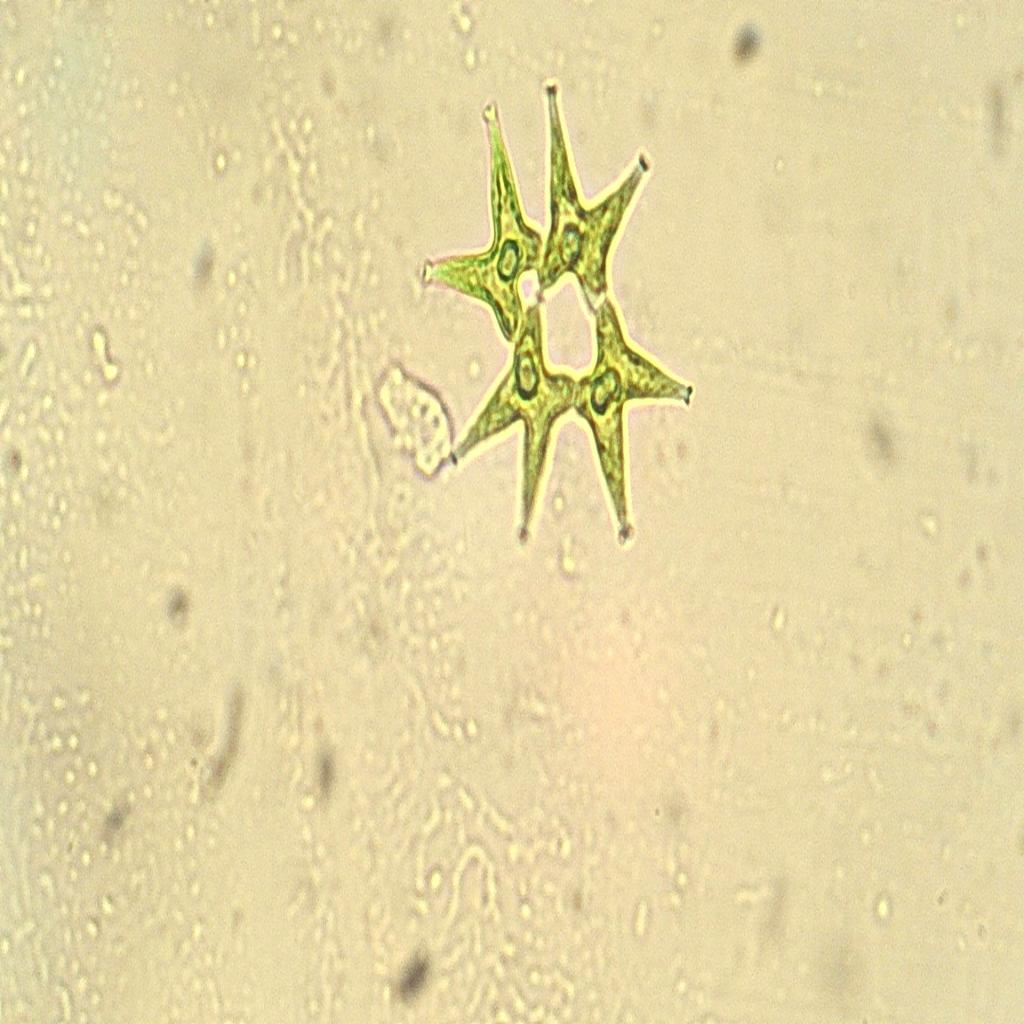Pediastrum_75FO: (408, 64, 710, 586)
